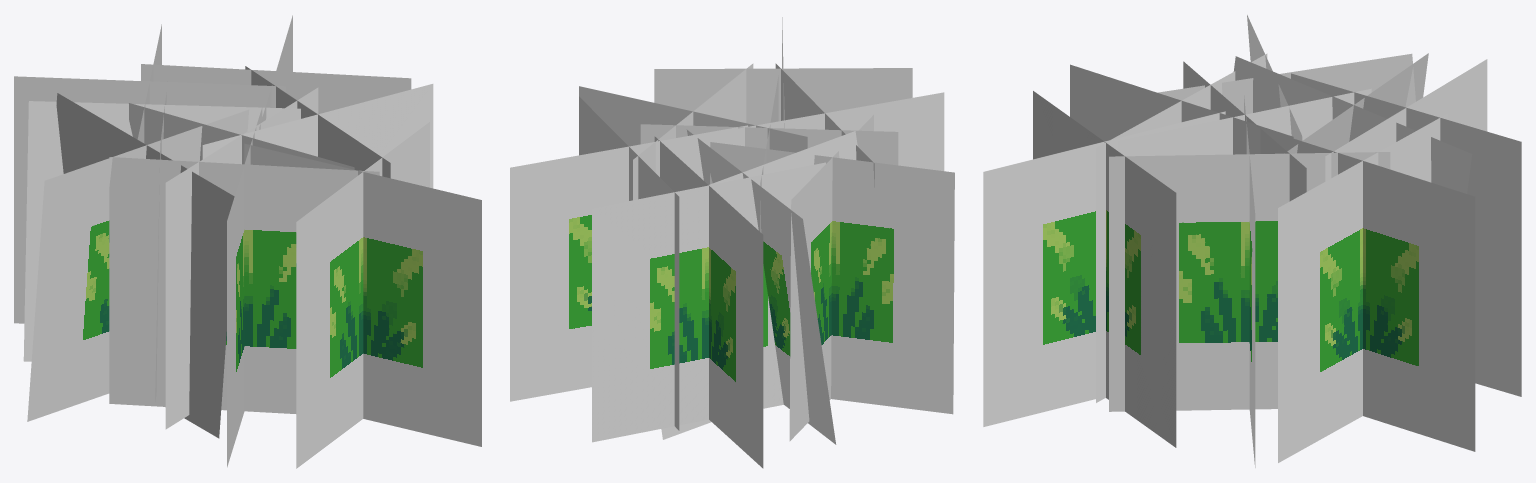
The model's file is Grass_Leaf_2.fbx.
3 renders of one model, left to right at view 1: azimuth 30°, elevation 25°; view 2: azimuth 150°, elevation 25°; view 3: azimuth 270°, elevation 25°, orthographic. The views are drawn at different scales.
Visible parts, largest first — view 1: pPlane13; view 2: pPlane13; view 3: pPlane13.
Boxes of the visible parts, x1=… form: pPlane13: x1=14, y1=15, x2=481, y2=468; pPlane13: x1=510, y1=17, x2=954, y2=468; pPlane13: x1=983, y1=15, x2=1521, y2=467.
Bounding box in the file's own units: 117 × 77.57 × 131.
1 material, 1 textured.
